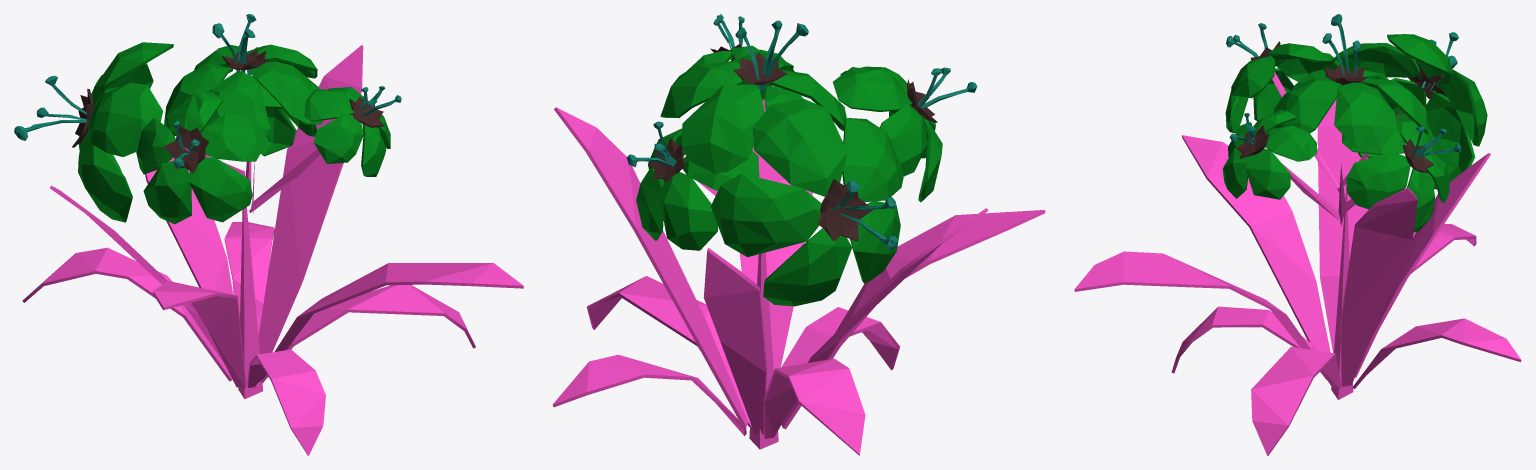
File: ShrubJungleRedSmall05.fbx
3 renders of one model, left to right at view 1: azimuth 30°, elevation 25°; view 2: azimuth 150°, elevation 25°; view 3: azimuth 270°, elevation 25°, orthographic. The views are drawn at different scales.
Parts seen in each view (by area): view 1: ShrubJungleRedSmall05_LOD0; view 2: ShrubJungleRedSmall05_LOD0; view 3: ShrubJungleRedSmall05_LOD0.
Boxes of the visible parts, <box> form: ShrubJungleRedSmall05_LOD0: <box>14,14,523,455</box>; ShrubJungleRedSmall05_LOD0: <box>552,14,1045,455</box>; ShrubJungleRedSmall05_LOD0: <box>1074,14,1521,455</box>.
Size of what is drawn, in the model's own units: 94.34 by 87.78 by 97.59.
